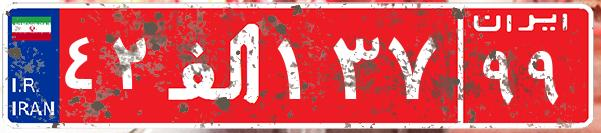1: (273, 28, 330, 110)
2: (110, 28, 158, 105)
3: (330, 28, 385, 110)
4: (57, 26, 110, 107)
7: (385, 28, 445, 110)
9: (475, 38, 525, 113), (525, 38, 570, 115)
الف: (158, 15, 273, 115)
